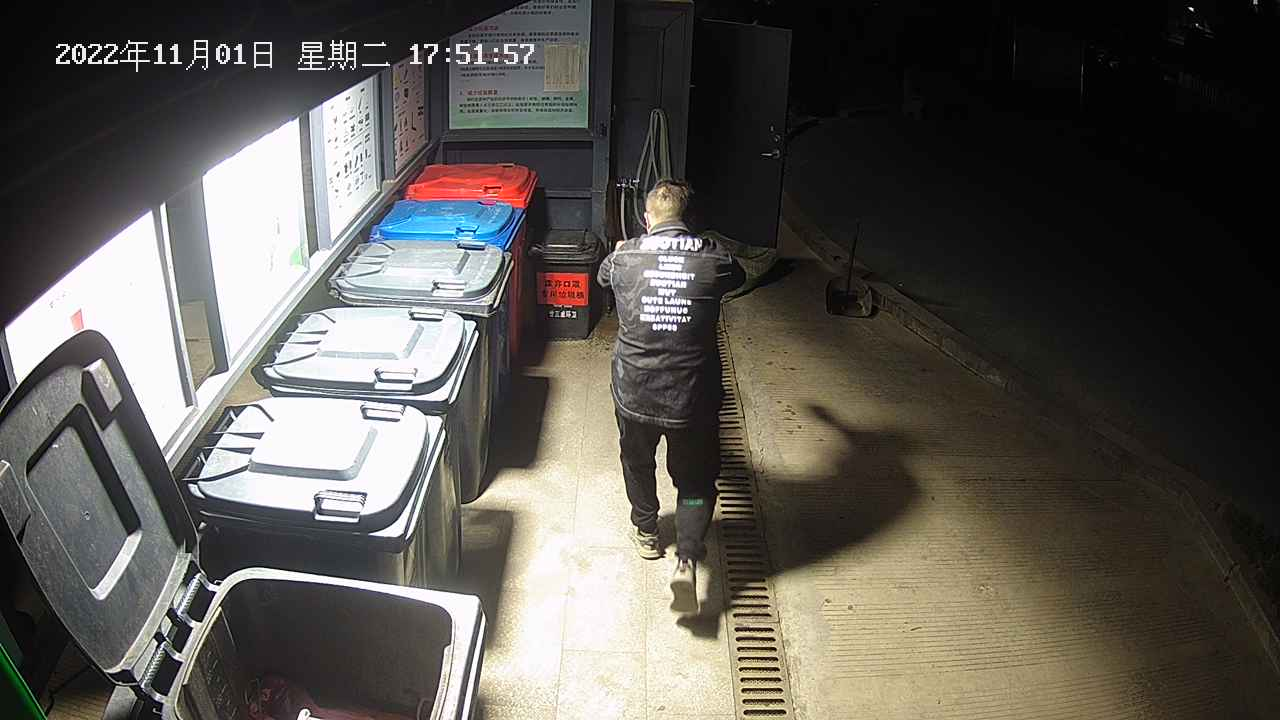person: (595, 176, 749, 616)
